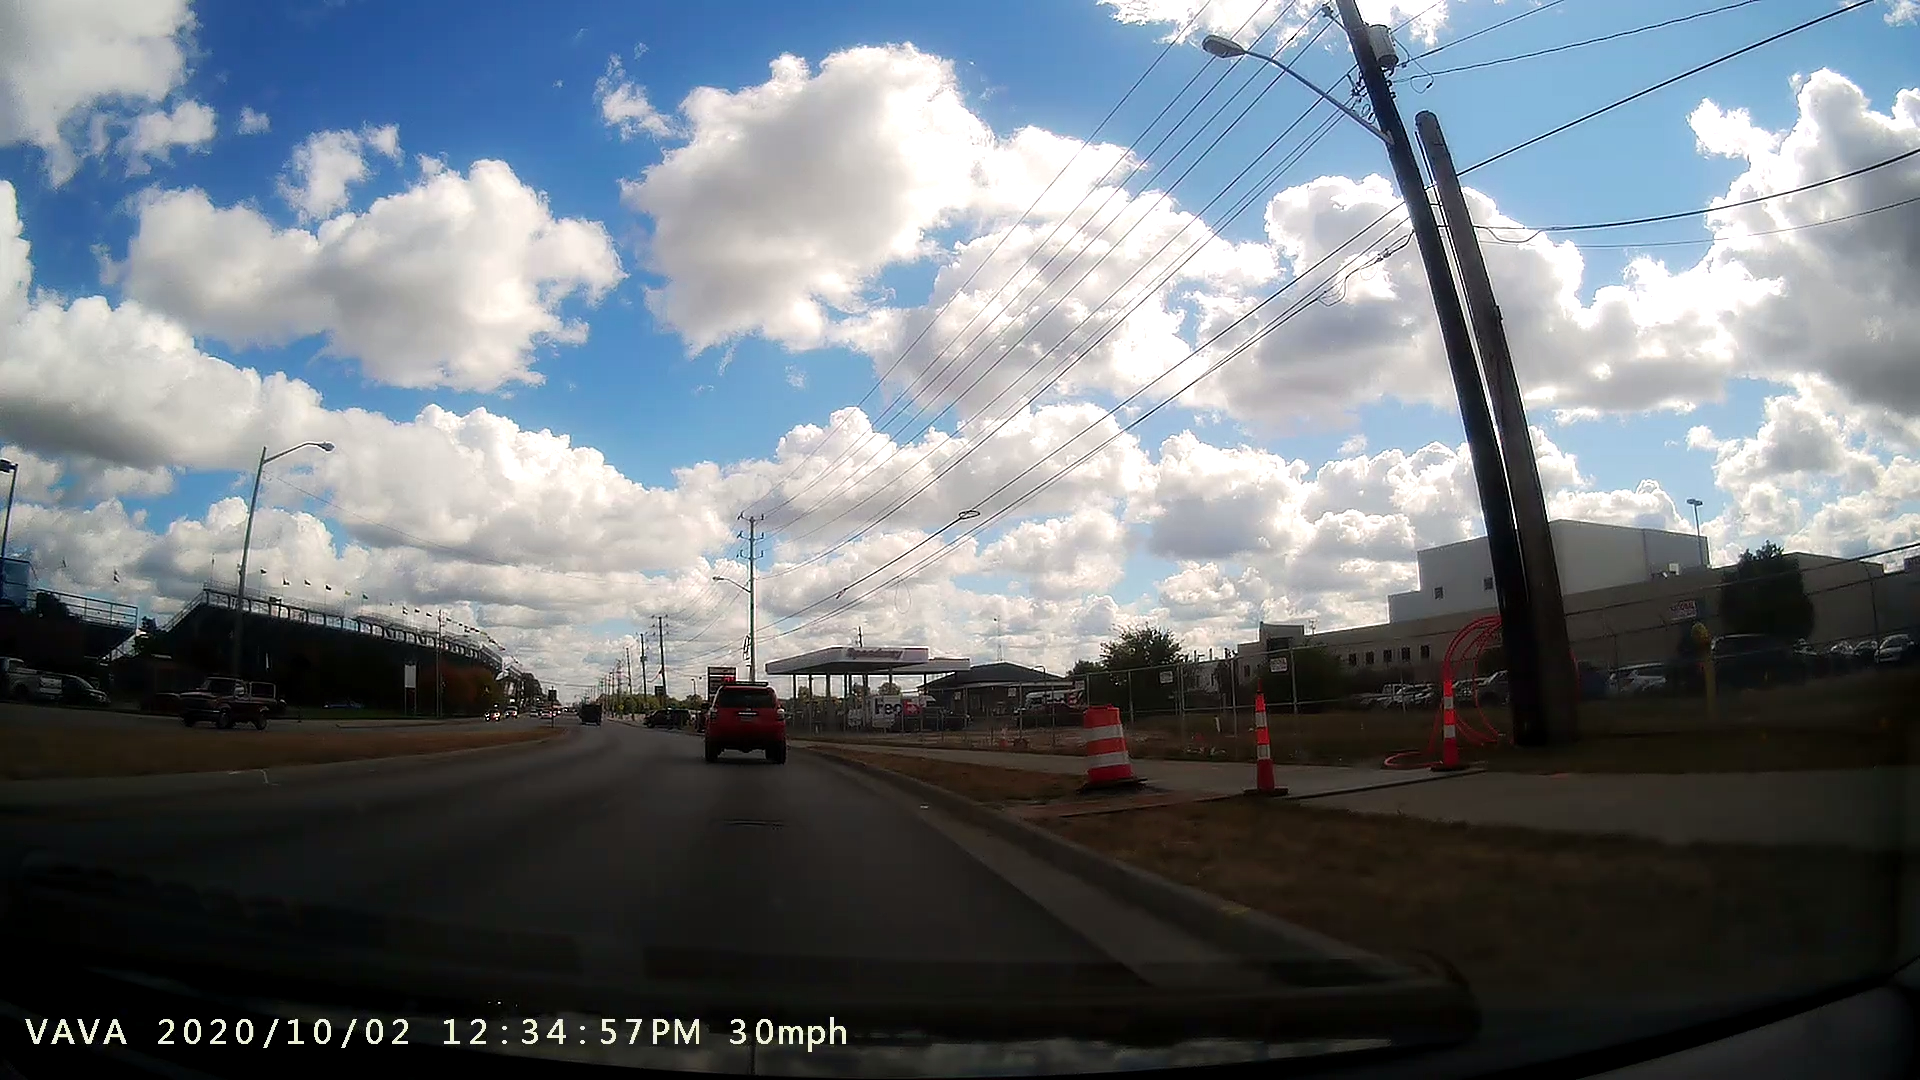const_barrel: (1072, 694, 1153, 810)
const_looper_cone: (1236, 686, 1304, 804)
